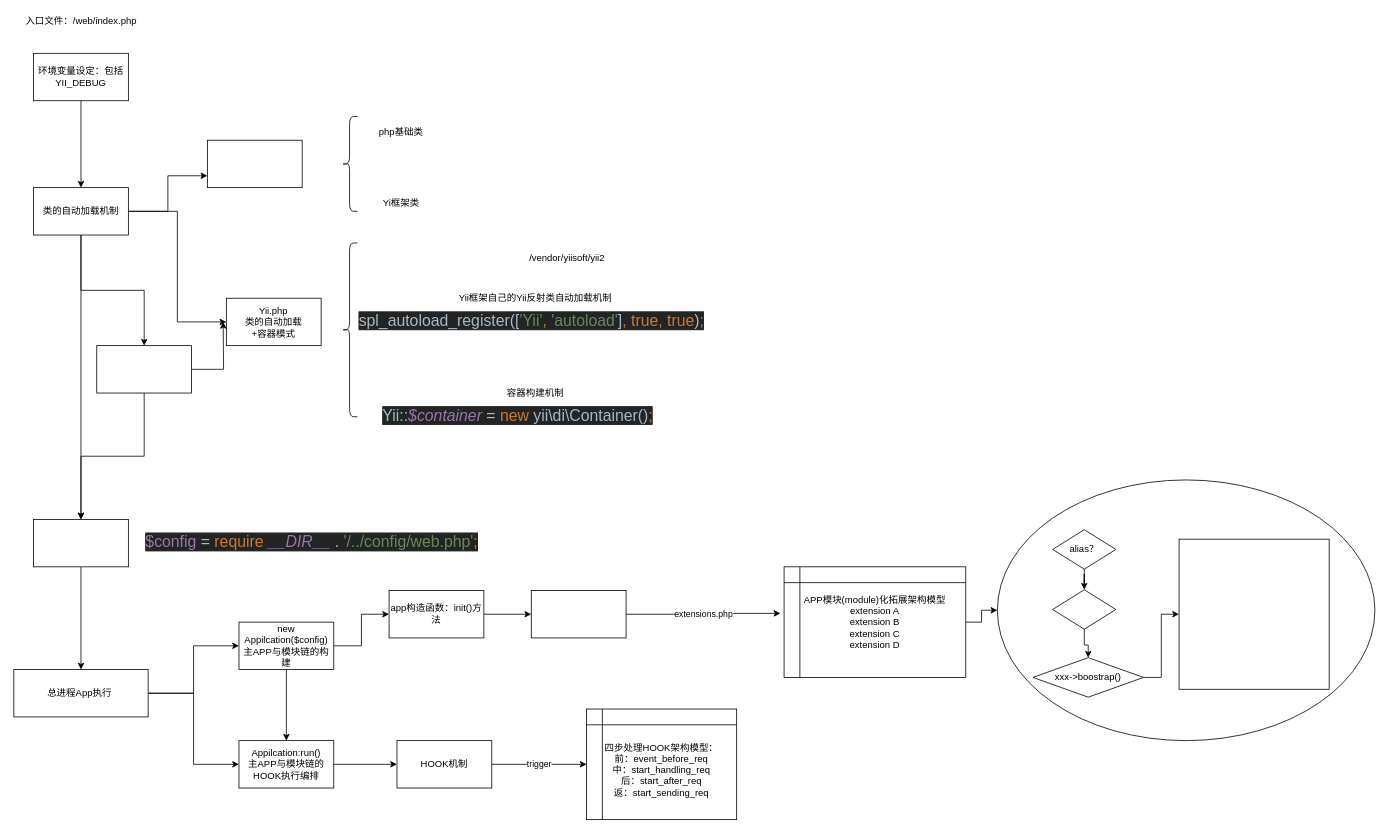
Image size: 1389x833. Some labels were removed from this diagram. The centre of each missing label's shape, as x and y in pixels:
"app总执行脚本：bootstrap()方法" belongs at point (578, 614).
"boostrap?" belongs at point (1084, 609).
"vendor/autoload.php" belongs at point (254, 163).
"初始化配置项：" belongs at point (80, 543).
"容器服务模式加载" belongs at point (144, 369).
"模块的脚本挂载attach event handle $app->getResponse()->on() $app->getView()->on()" belongs at point (1253, 613).
